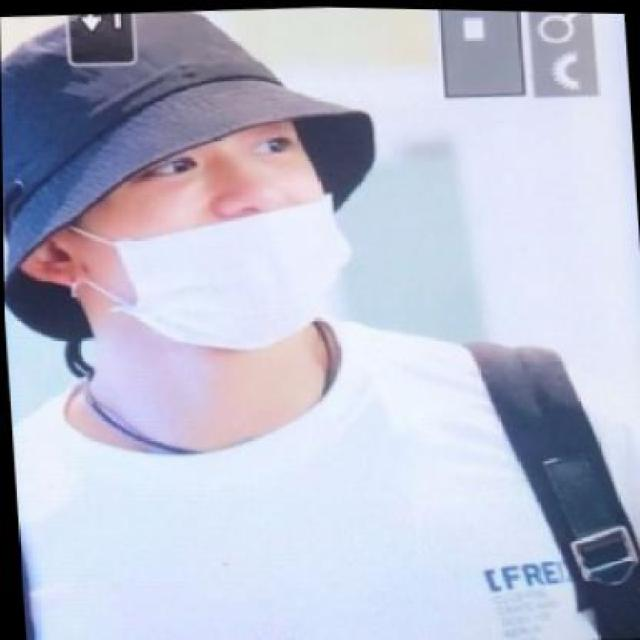hat: (1, 9, 375, 283)
